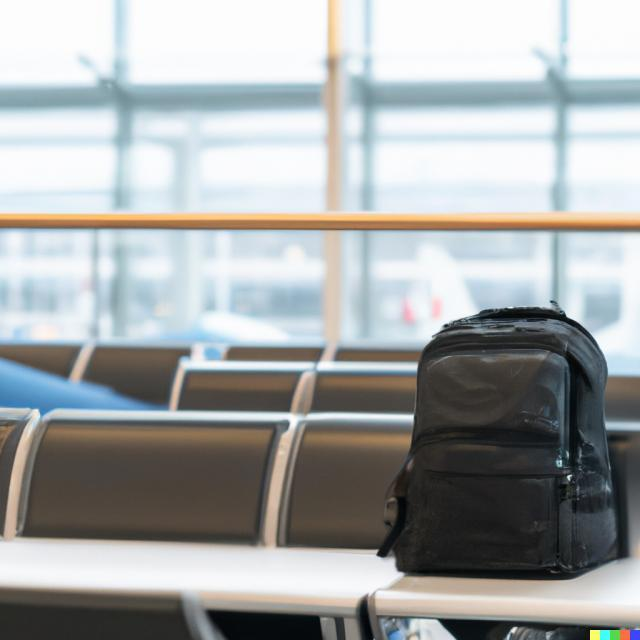Backpacks: (388, 296, 629, 588)
